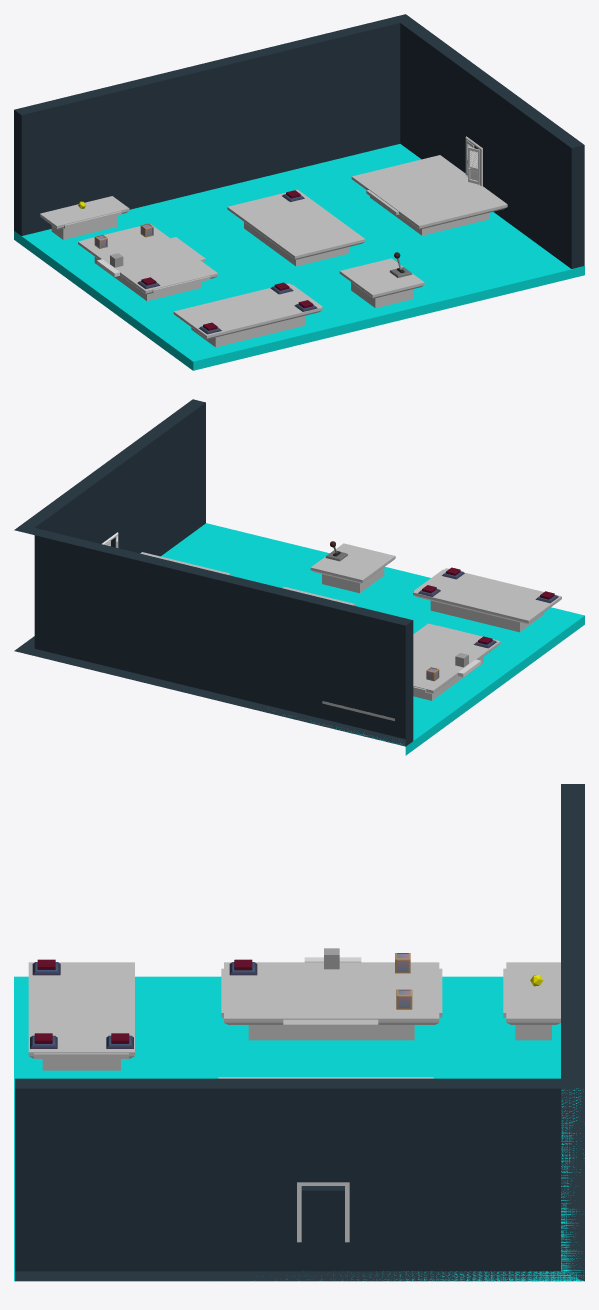
The model's file is testExport.fbx.
3 views of the same model, one above another, from view 1: azimuth 30°, elevation 25°; view 2: azimuth 150°, elevation 25°; view 3: azimuth 270°, elevation 25° (orthographic). The views are drawn at different scales.
Parts seen in each view (by area): view 1: polySurface11, polySurface9, polySurface10, polySurface12, polySurface8, polySurface7, polySurface5, polySurface6, polySurface4, pSphere6; view 2: polySurface11, polySurface9, polySurface10, polySurface5, polySurface7, polySurface6; view 3: polySurface10, polySurface9, polySurface7, polySurface11, polySurface5, polySurface4, pCube11, pSphere6.
Part boxes in pixels (left/top/right/bottom): polySurface11: left=14, top=14, right=405, bottom=235; polySurface9: left=14, top=144, right=584, bottom=370; polySurface10: left=400, top=14, right=584, bottom=268; polySurface12: left=351, top=155, right=507, bottom=235; polySurface8: left=227, top=189, right=365, bottom=266; polySurface7: left=78, top=224, right=218, bottom=300; polySurface5: left=173, top=283, right=322, bottom=347; polySurface6: left=339, top=258, right=424, bottom=308; polySurface4: left=40, top=196, right=129, bottom=239; pSphere6: left=465, top=136, right=482, bottom=186; polySurface11: left=14, top=528, right=413, bottom=746; polySurface9: left=161, top=523, right=584, bottom=755; polySurface10: left=14, top=399, right=205, bottom=650; polySurface5: left=413, top=568, right=561, bottom=632; polySurface7: left=413, top=623, right=500, bottom=700; polySurface6: left=310, top=543, right=395, bottom=593; polySurface10: left=15, top=1078, right=583, bottom=1281; polySurface9: left=14, top=976, right=584, bottom=1281; polySurface7: left=224, top=962, right=439, bottom=1040; polySurface11: left=561, top=784, right=584, bottom=1281; polySurface5: left=28, top=962, right=134, bottom=1070; polySurface4: left=506, top=962, right=560, bottom=1040; pCube11: left=283, top=1019, right=378, bottom=1029; pSphere6: left=297, top=1182, right=349, bottom=1242.
Bounding box in the file's own units: 45.55 × 14.44 × 36.07.
